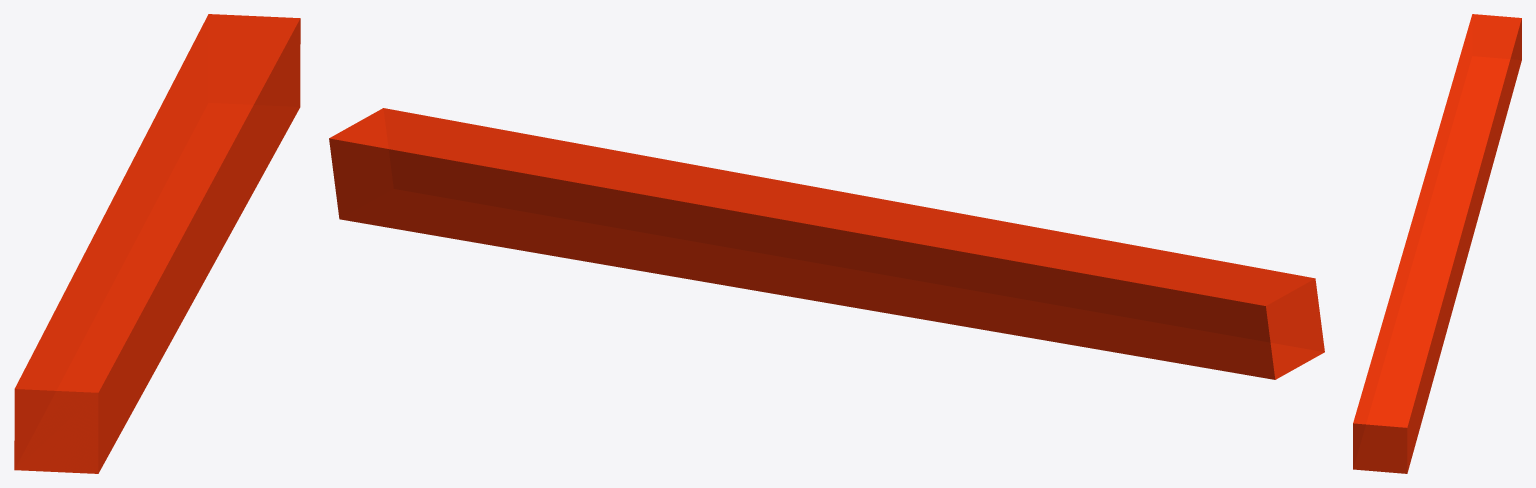
Rendered from Event_421115418_EErechit_111.fbx.
3 renders of one model, left to right at view 1: azimuth 90°, elevation 25°; view 2: azimuth 150°, elevation 25°; view 3: azimuth 270°, elevation 25°, orthographic. The views are drawn at different scales.
Parts seen in each view (by area): view 1: Model; view 2: Model; view 3: Model.
Boxes of the visible parts, <box> form: Model: <box>14,14,300,473</box>; Model: <box>329,108,1324,379</box>; Model: <box>1353,14,1521,473</box>.
Size of the model in its own units: 1.1 by 0.2306 by 0.2445.
